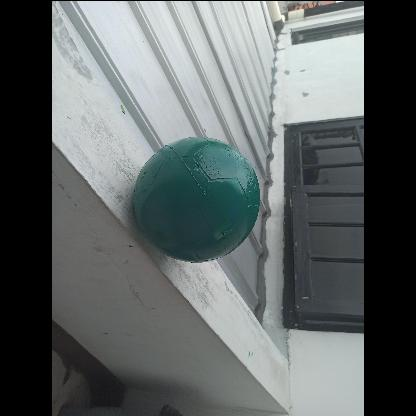green_ball: (132, 134, 262, 264)
